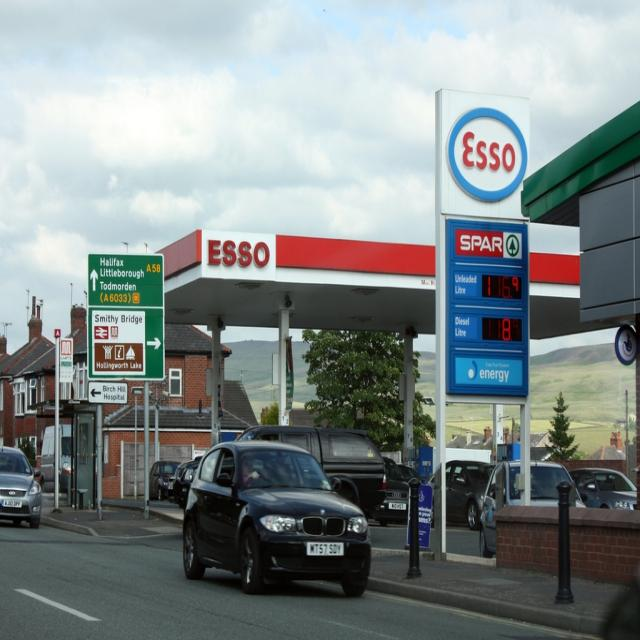esso: (446, 104, 531, 208)
